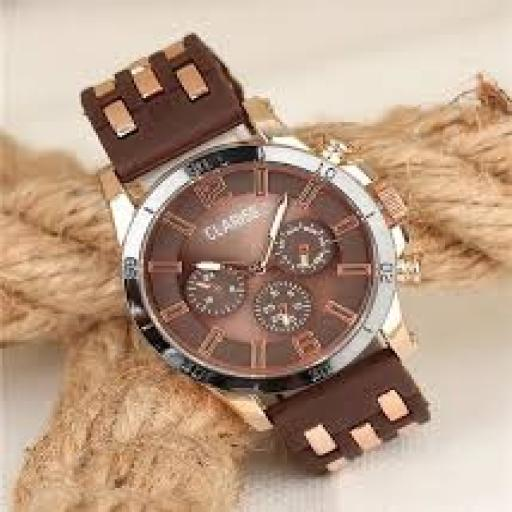KolSaati: (66, 35, 464, 436)
